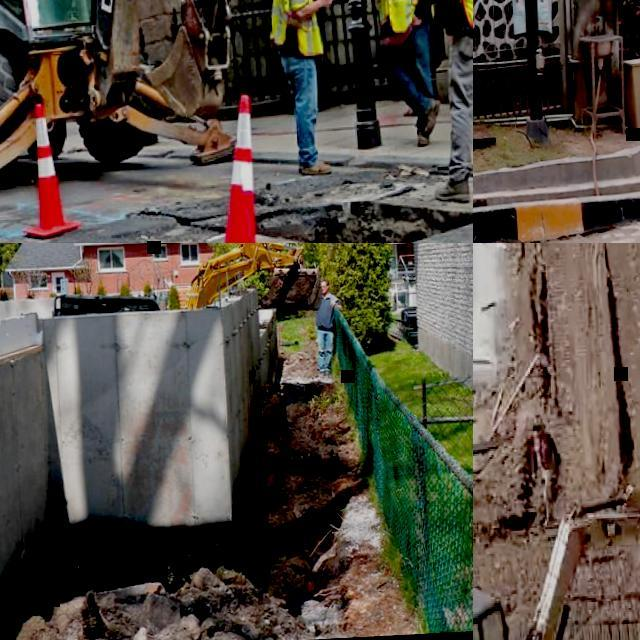vest: (268, 0, 325, 57), (376, 0, 424, 34)
